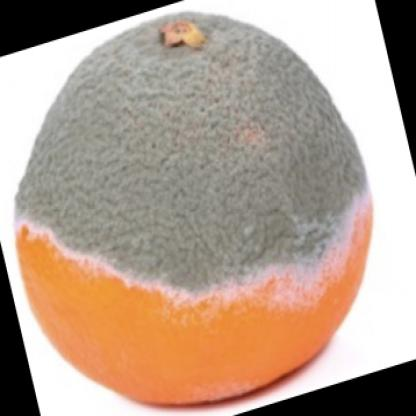rotten_orange: (8, 11, 383, 408)
